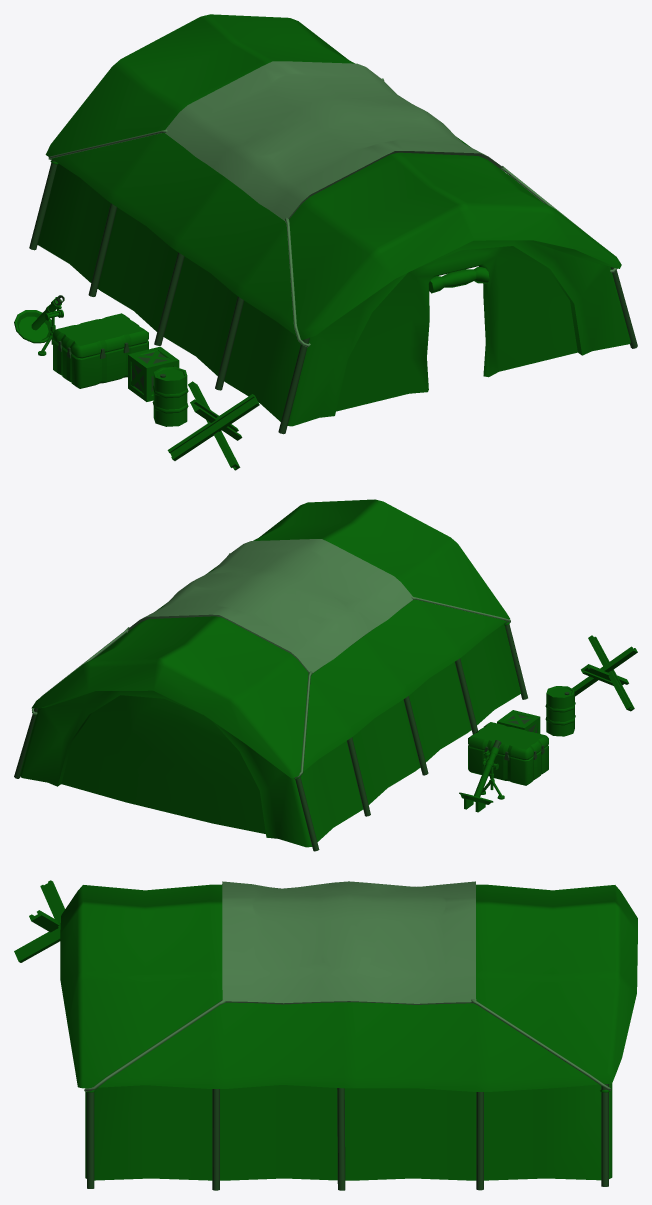
The model's file is WarProps.fbx.
3 renders of one model, top to bottom at view 1: azimuth 30°, elevation 25°; view 2: azimuth 150°, elevation 25°; view 3: azimuth 270°, elevation 25°, orthographic. The views are drawn at different scales.
Visible parts, largest first — view 1: tent_001, box_003, hedgehog_001, barrel_001, box_007, mortar_001; view 2: tent_001, box_003, hedgehog_001, barrel_001, mortar_001, box_007; view 3: tent_001, hedgehog_001.
Boxes of the visible parts, x1=… form: tent_001: x1=29, y1=14, x2=637, y2=434; box_003: x1=53, y1=313, x2=148, y2=388; hedgehog_001: x1=167, y1=381, x2=259, y2=470; barrel_001: x1=152, y1=366, x2=188, y2=426; box_007: x1=128, y1=346, x2=179, y2=401; mortar_001: x1=14, y1=295, x2=64, y2=355; tent_001: x1=14, y1=499, x2=527, y2=851; box_003: x1=468, y1=722, x2=548, y2=785; hedgehog_001: x1=572, y1=635, x2=637, y2=711; barrel_001: x1=545, y1=686, x2=575, y2=736; mortar_001: x1=459, y1=740, x2=504, y2=812; box_007: x1=497, y1=710, x2=540, y2=733; tent_001: x1=60, y1=881, x2=637, y2=1190; hedgehog_001: x1=14, y1=880, x2=64, y2=962.
Size of the model in its own units: 9.16 by 3.54 by 9.99.
